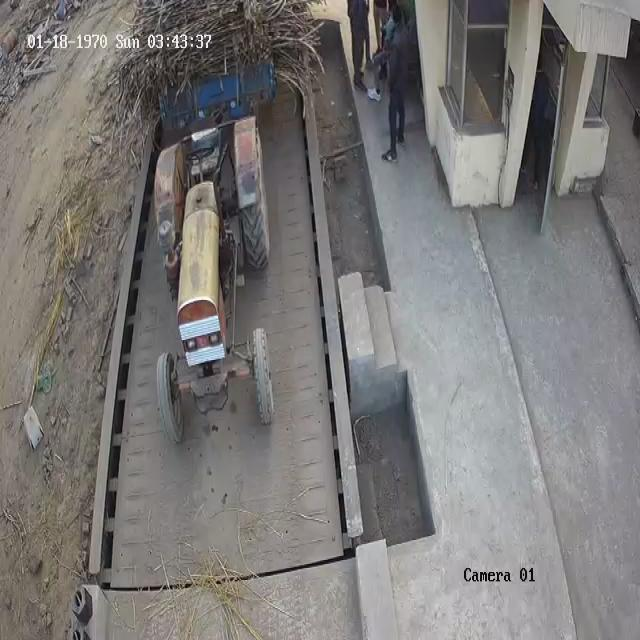Tratores - v5 YOLO V8L 2024-11-13: (148, 119, 279, 452)
